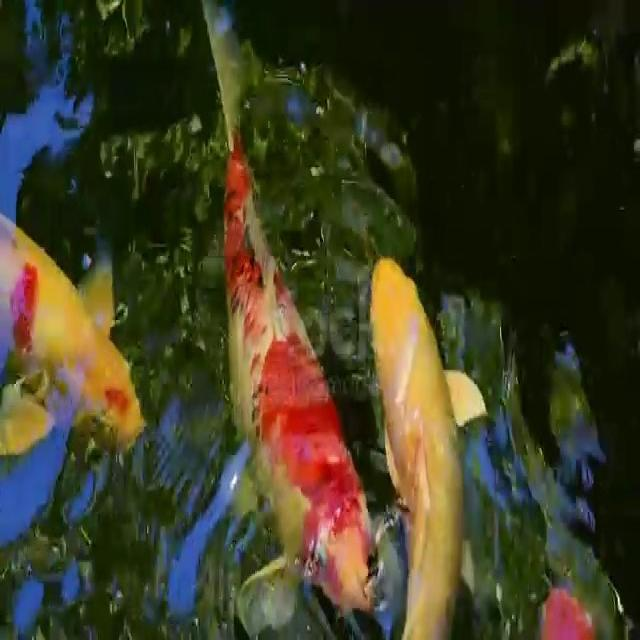fish: (196, 0, 381, 640), (363, 238, 493, 640), (0, 178, 147, 520)
